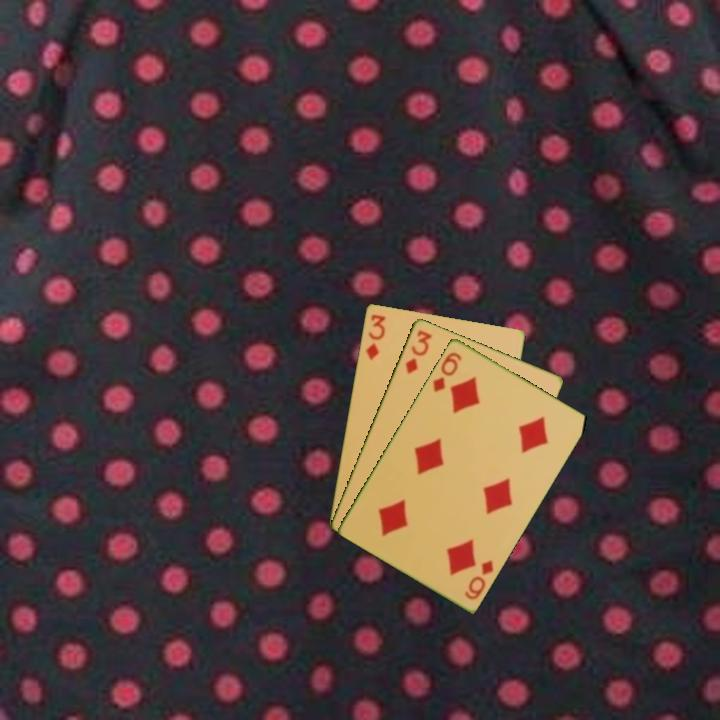3d: (401, 326, 434, 377), (362, 311, 388, 363)
6d: (429, 348, 465, 395), (461, 556, 496, 602)
